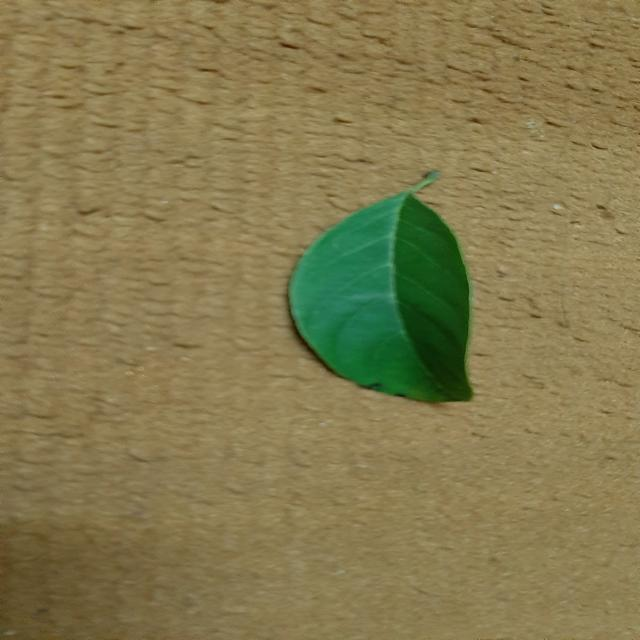seethaphala: (290, 171, 471, 401)
